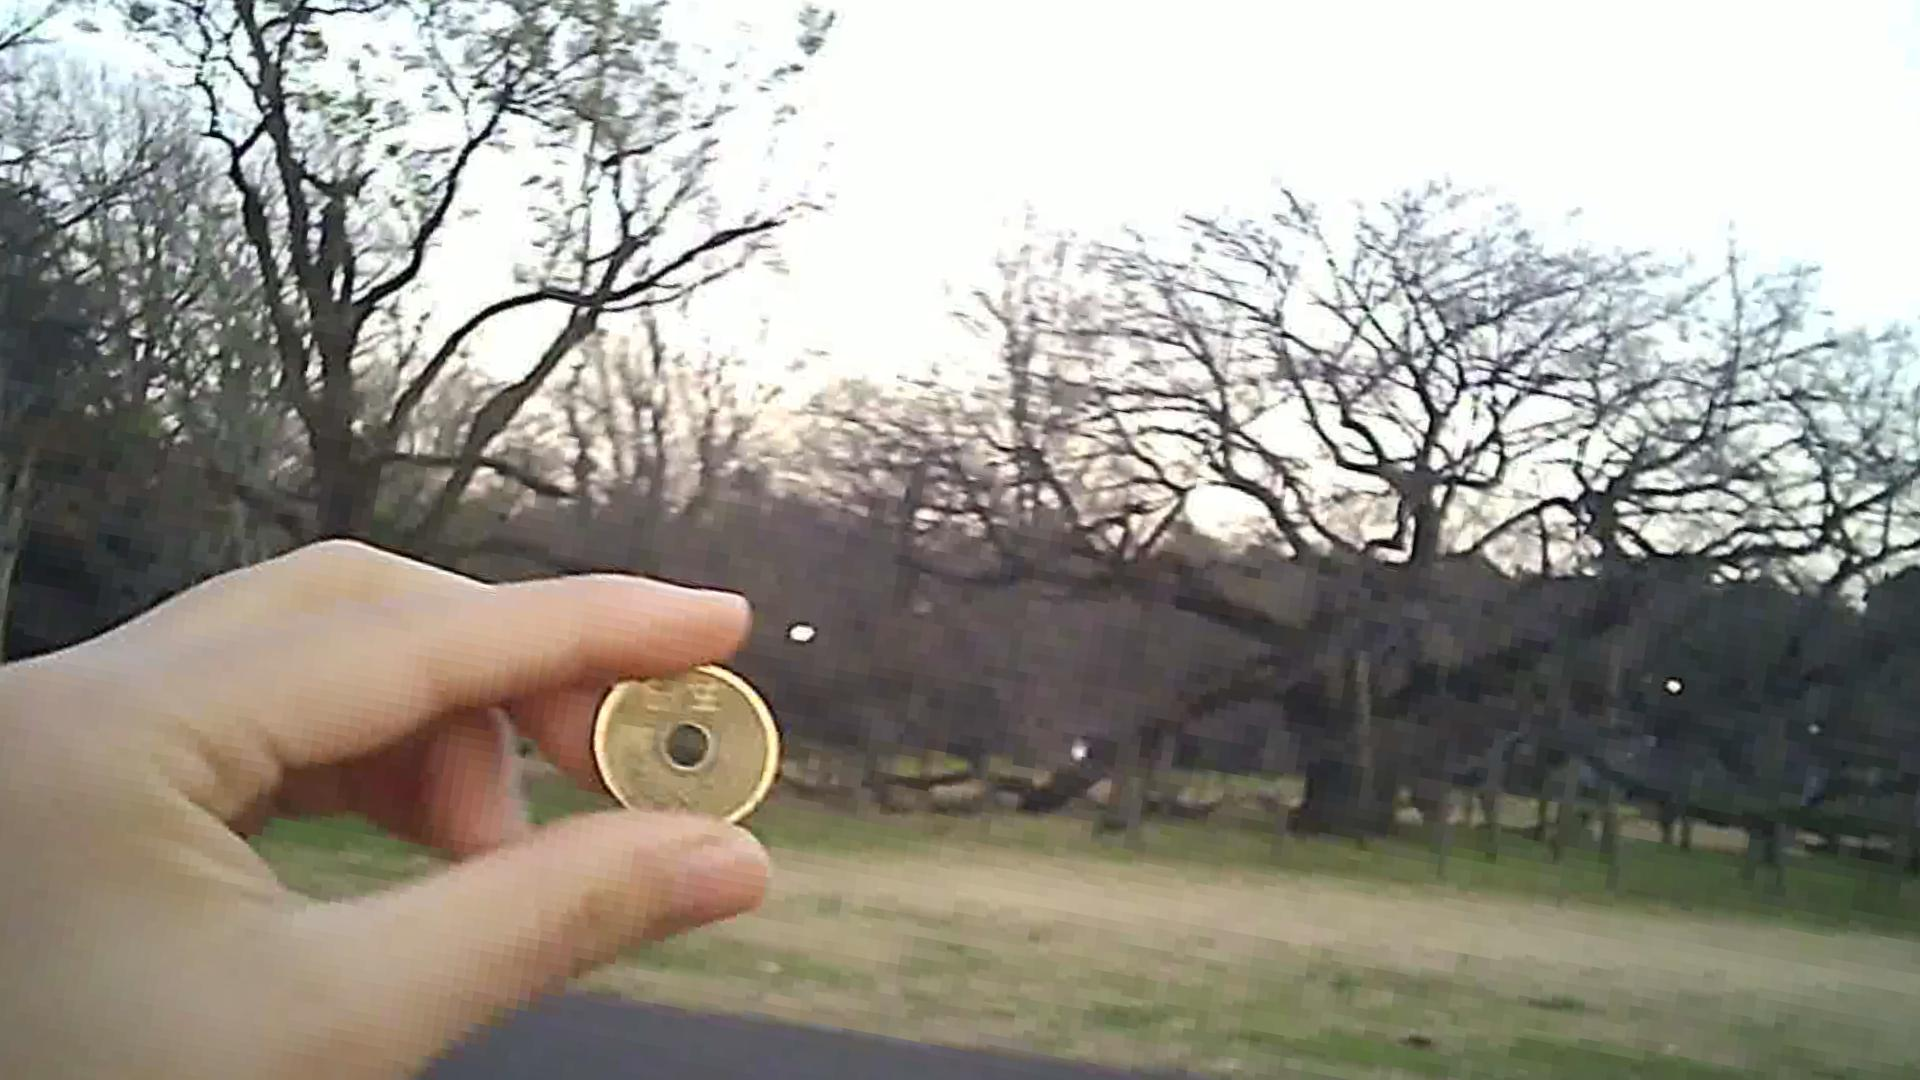5 Yen: (575, 647, 783, 839)
